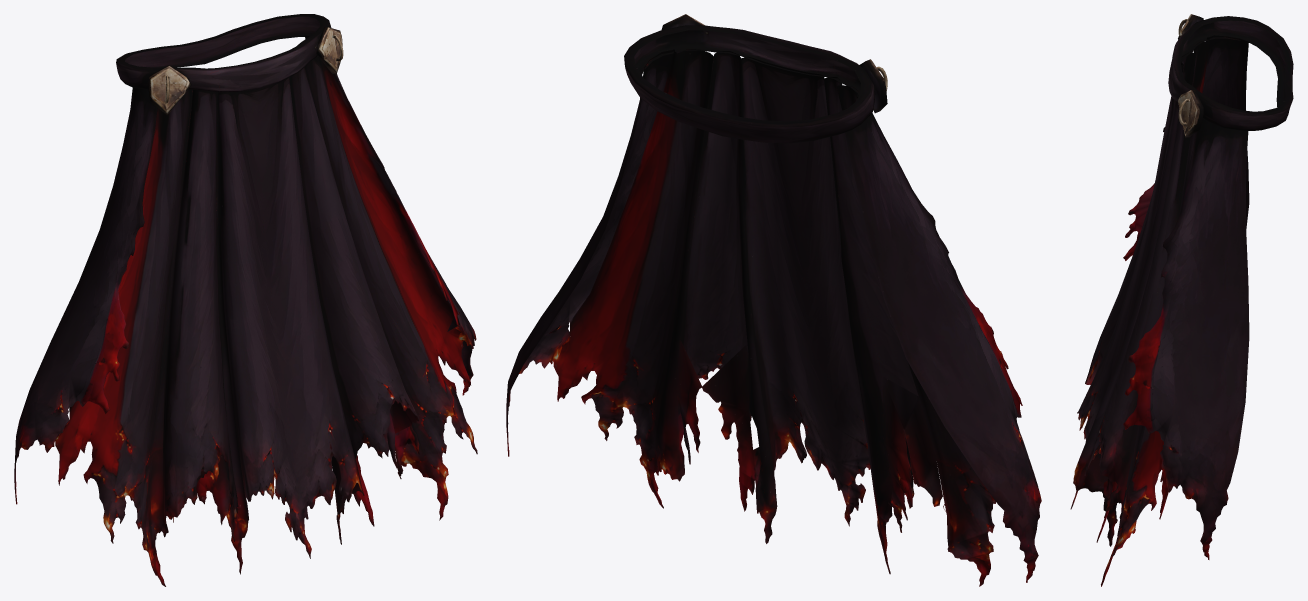
Rendered from bascavus_pelerin.fbx.
3 views of the same model, side by side, from view 1: azimuth 30°, elevation 25°; view 2: azimuth 150°, elevation 25°; view 3: azimuth 270°, elevation 25° (orthographic). The views are drawn at different scales.
Visible parts, largest first — view 1: tripo_node_4ffe932c; view 2: tripo_node_4ffe932c; view 3: tripo_node_4ffe932c.
Boxes of the visible parts, box(x1,y1,x2,y2) form: tripo_node_4ffe932c: box(14, 14, 477, 586); tripo_node_4ffe932c: box(506, 14, 1041, 586); tripo_node_4ffe932c: box(1070, 14, 1293, 586).
Size of the model in its own units: 0.9941 by 1 by 0.4275.
1 material, 1 textured.
